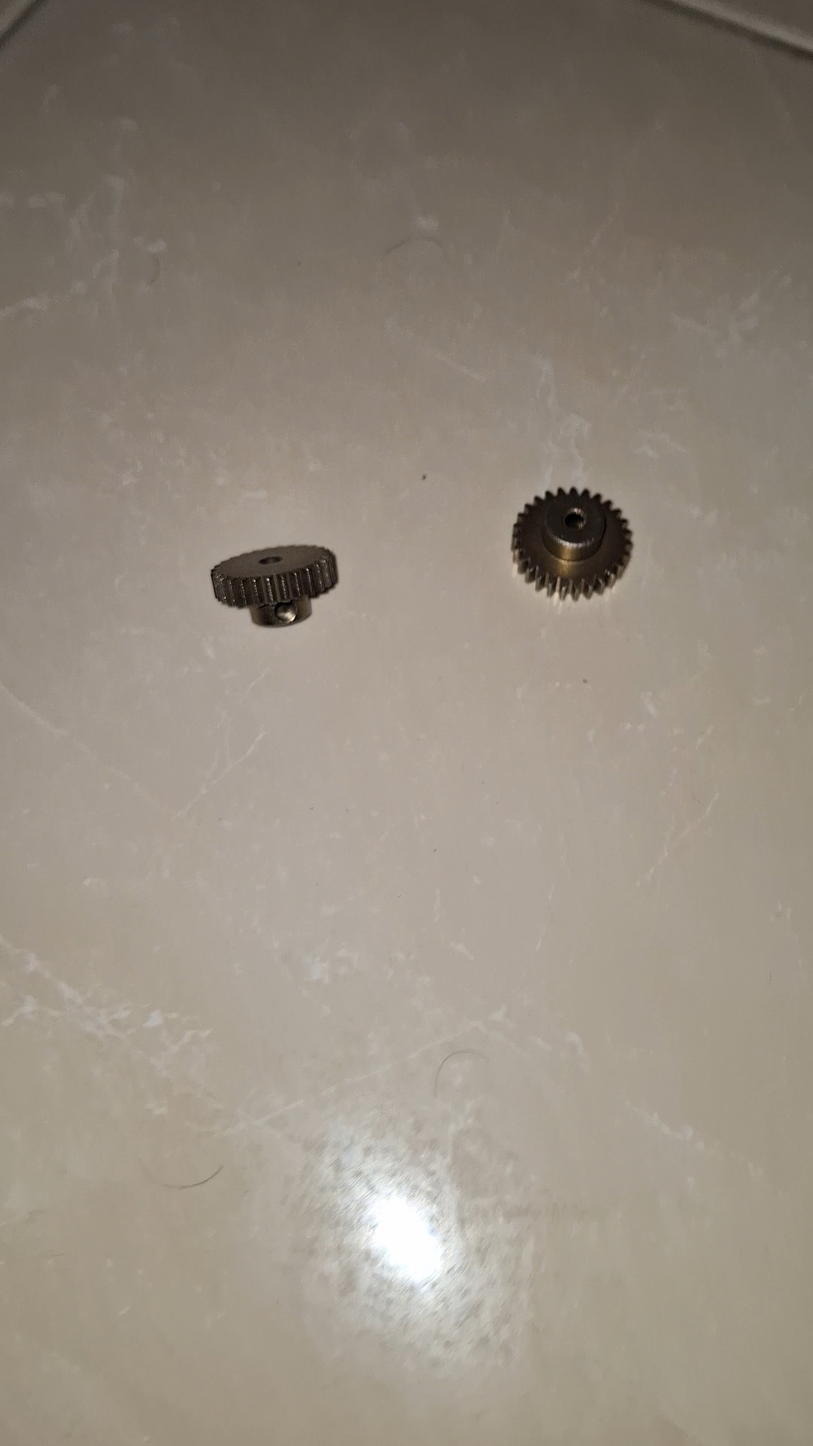spur gear: (512, 488, 632, 599), (211, 545, 338, 625)
